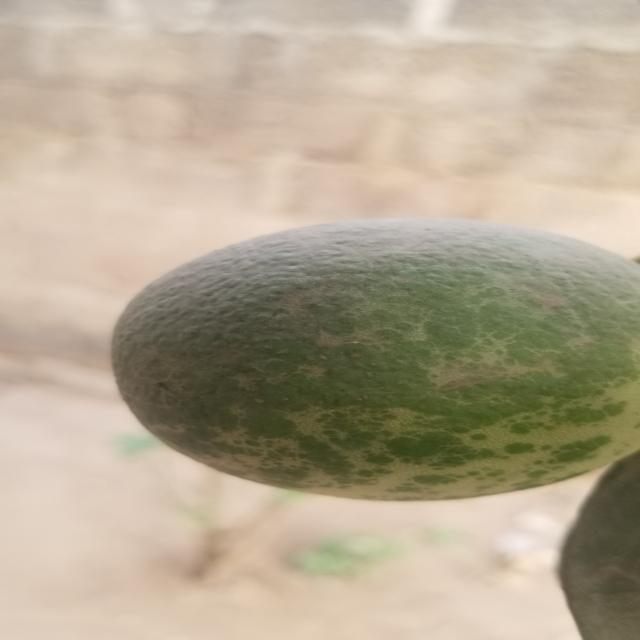Unripe: (111, 221, 640, 503)
